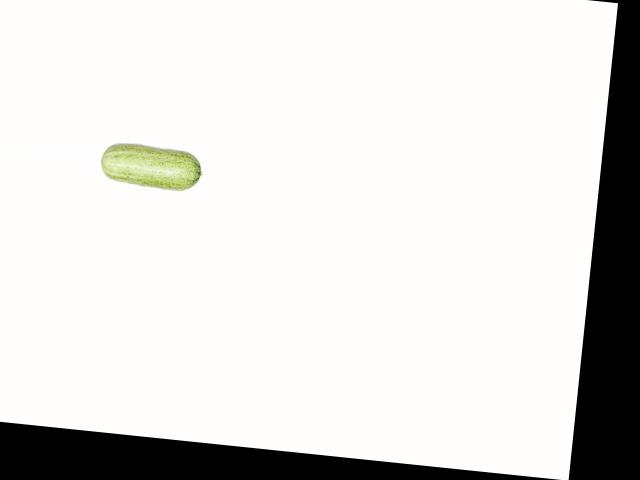cucumber: (99, 141, 204, 192)
